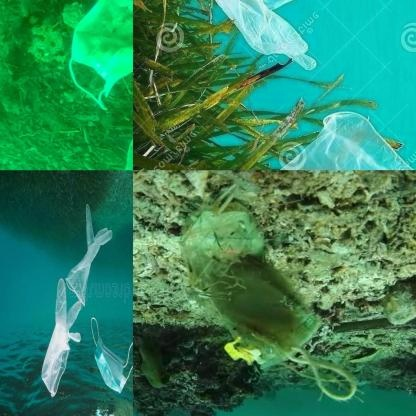Mask: (178, 181, 359, 402), (9, 0, 133, 103), (89, 314, 133, 396)
glove: (171, 107, 416, 170), (168, 0, 329, 78), (66, 199, 112, 308), (44, 274, 81, 399), (69, 115, 132, 170)
